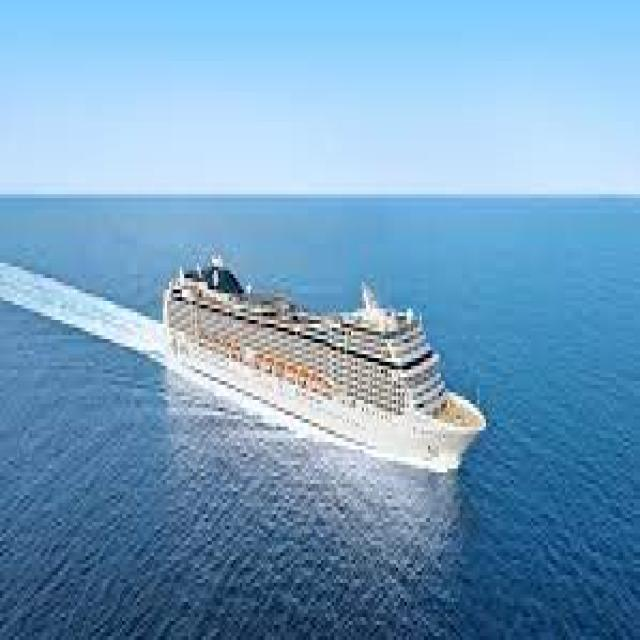passenger ship: (156, 246, 488, 474)
